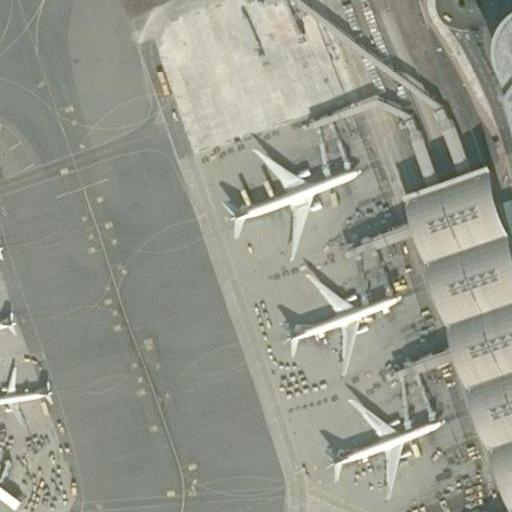Aircraft: (220, 136, 370, 258), (316, 379, 452, 497), (270, 269, 412, 378), (0, 366, 65, 429), (0, 294, 31, 362), (0, 210, 12, 286)
